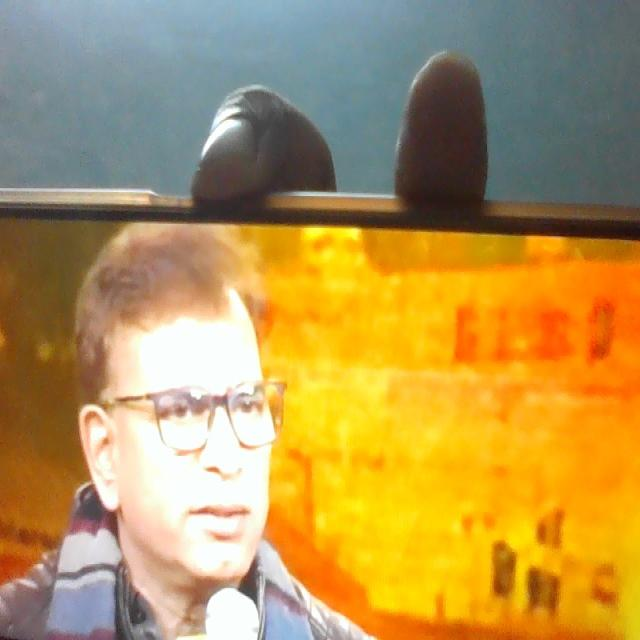fake: (87, 244, 273, 595)
